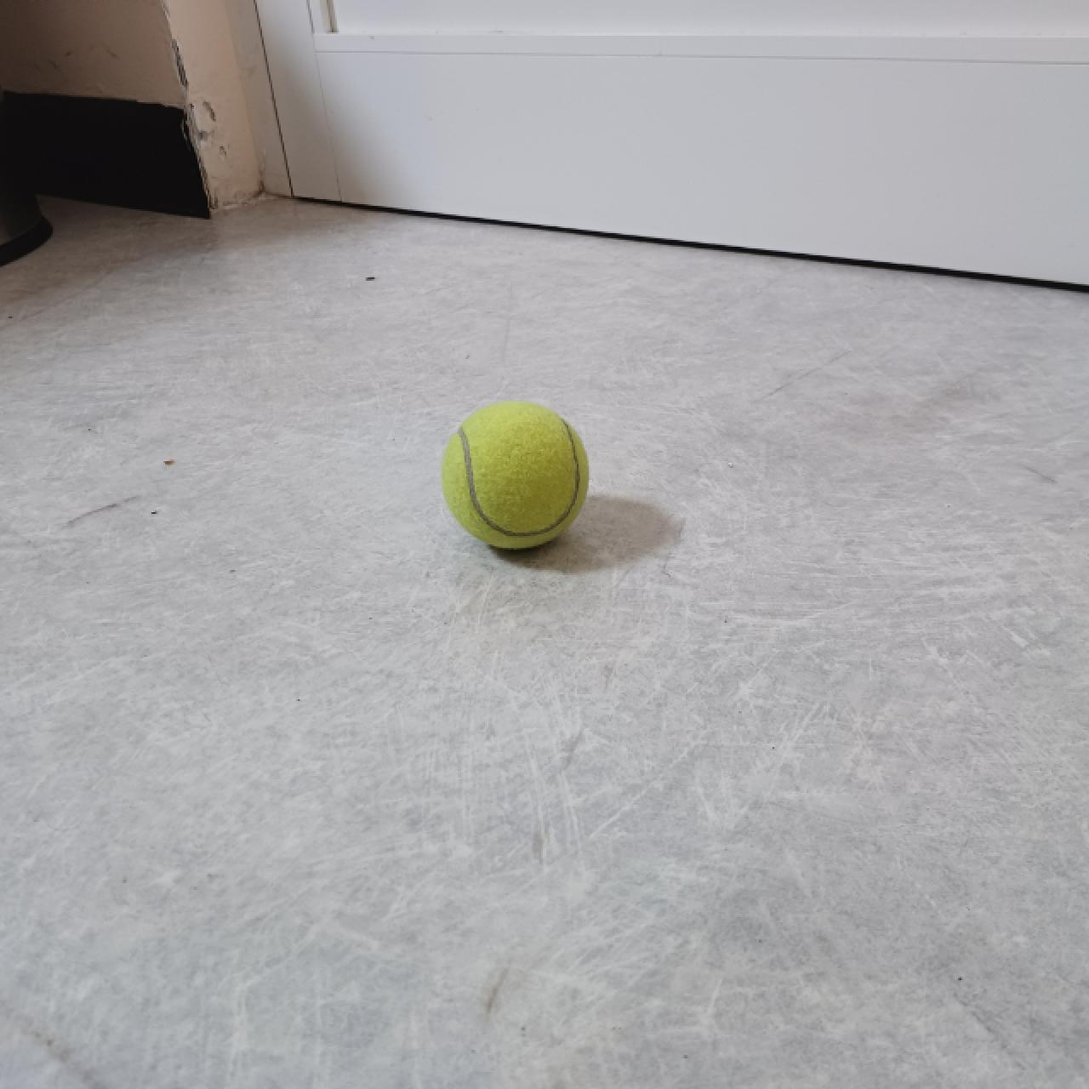tennis-ball: (439, 401, 591, 554)
